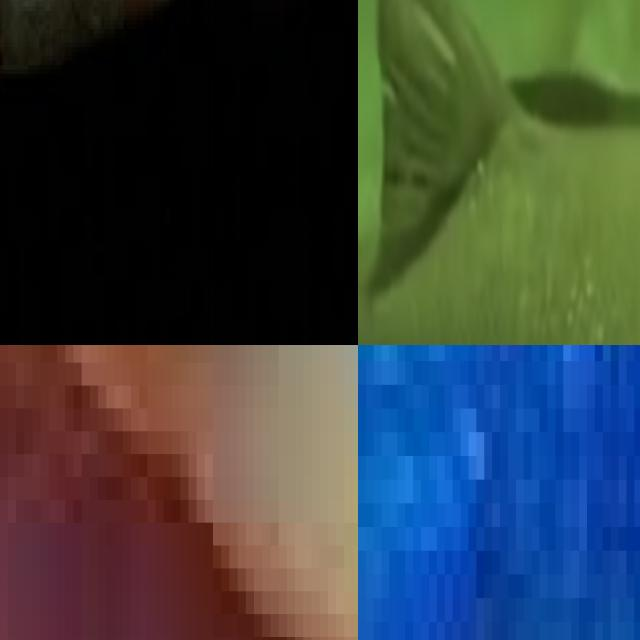fish: (0, 0, 358, 345), (358, 345, 640, 640)
